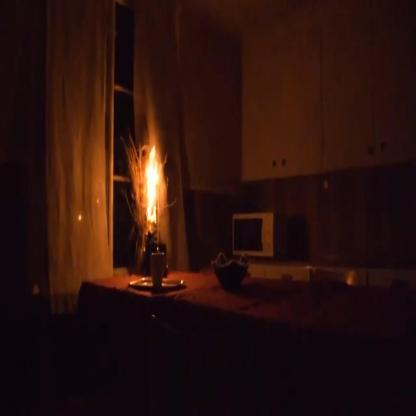fire: (142, 137, 168, 222)
